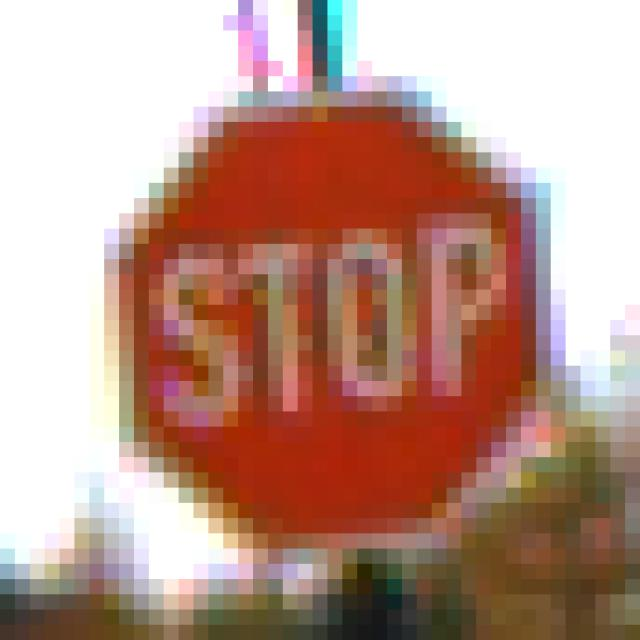STOP: (90, 77, 567, 565)
